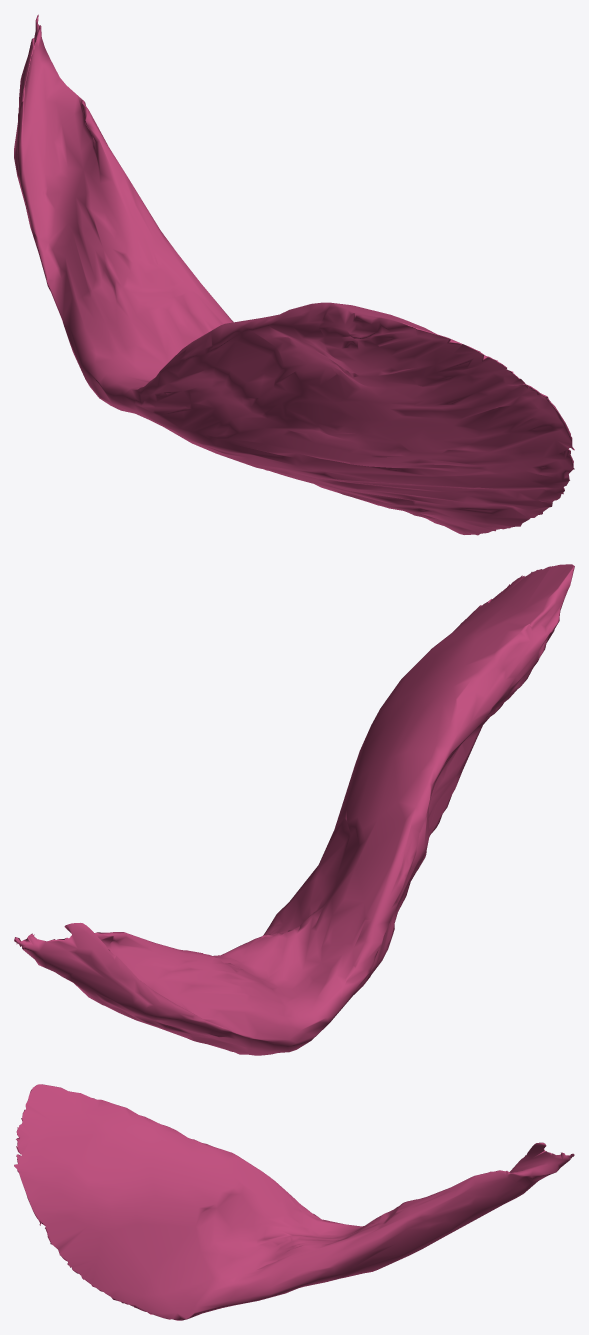
The picture shows the model from 3 angles, top to bottom: view 1: azimuth 30°, elevation 25°; view 2: azimuth 150°, elevation 25°; view 3: azimuth 270°, elevation 25°; orthographic projection. The views are drawn at different scales.
Visible parts, largest first — view 1: 左侧髂肌; view 2: 左侧髂肌; view 3: 左侧髂肌.
Part boxes in pixels (x1,y1,x2,y2): 左侧髂肌: (14, 14, 574, 535); 左侧髂肌: (14, 564, 574, 1055); 左侧髂肌: (14, 1084, 574, 1320).
Bounding box in the file's own units: 0.0827 × 0.127 × 0.3412.
